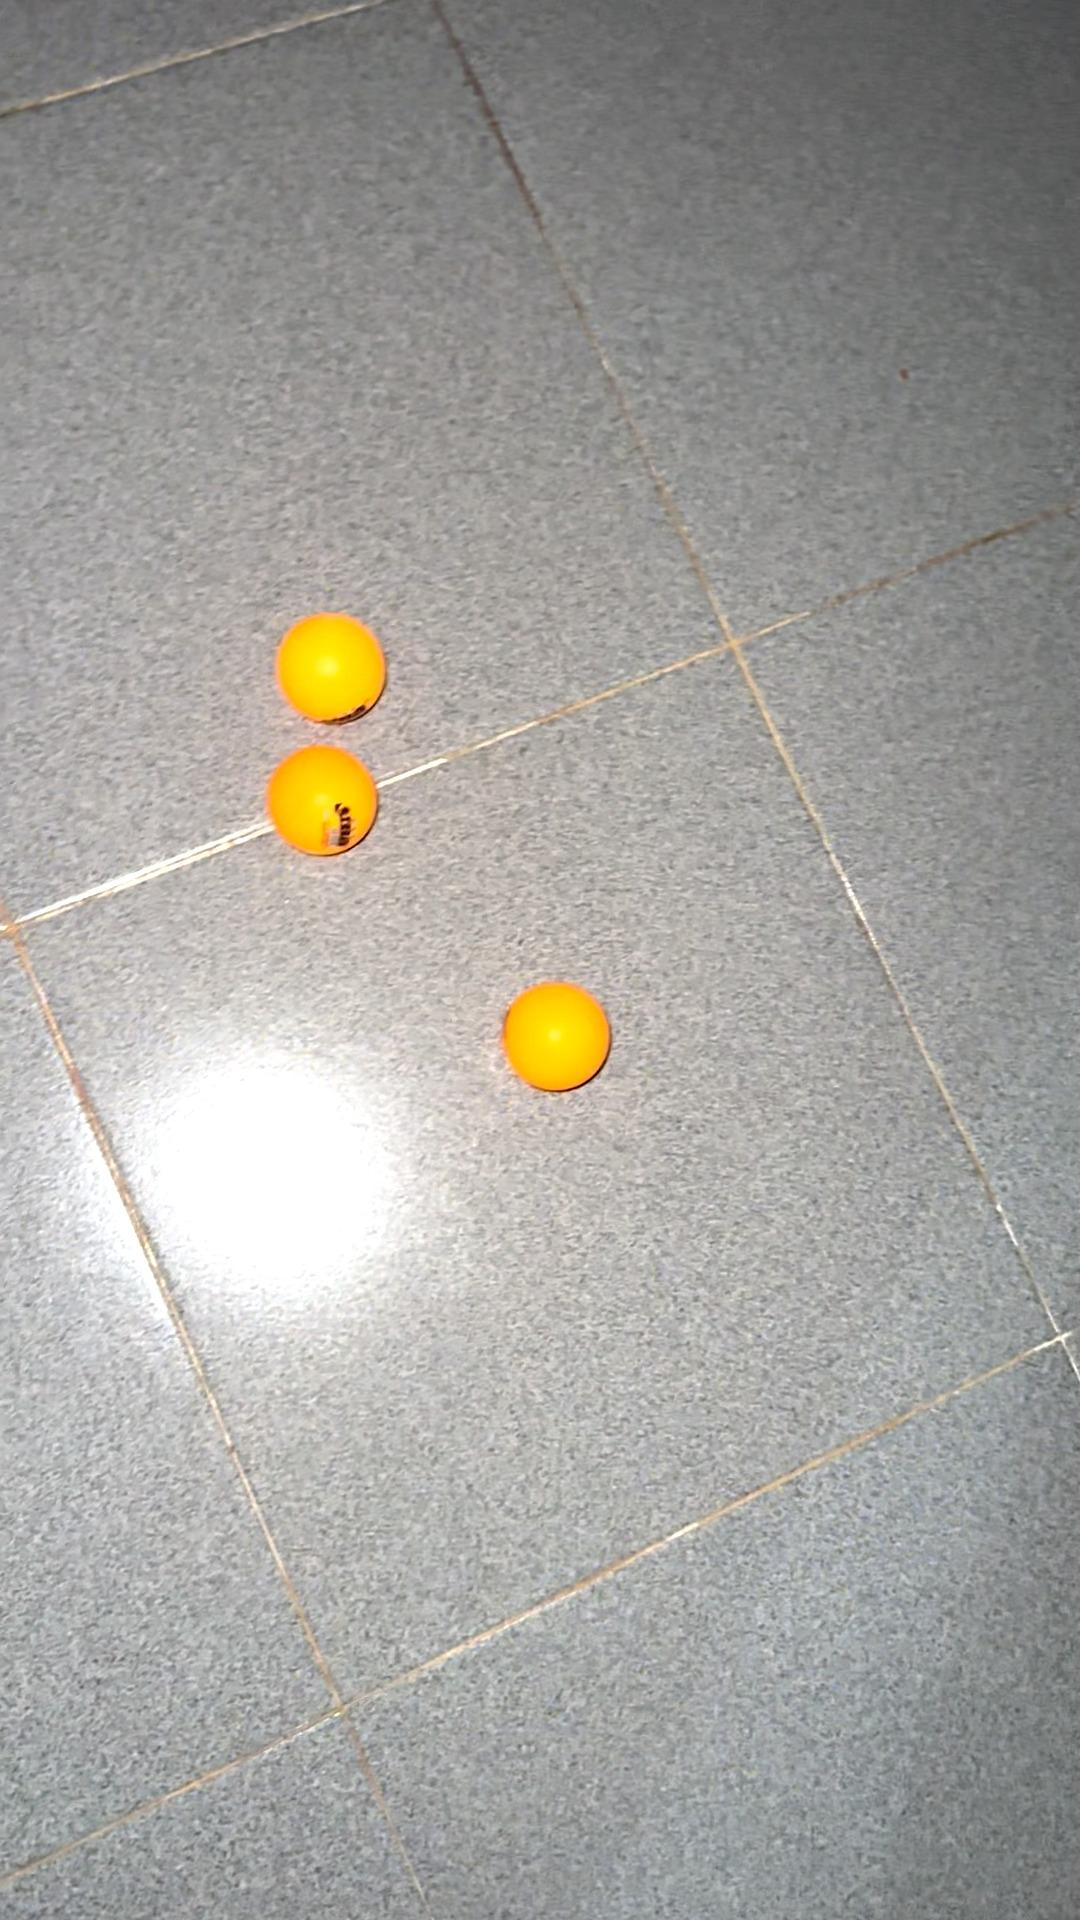oball: (495, 971, 637, 1100), (261, 737, 390, 869), (272, 603, 400, 733)
